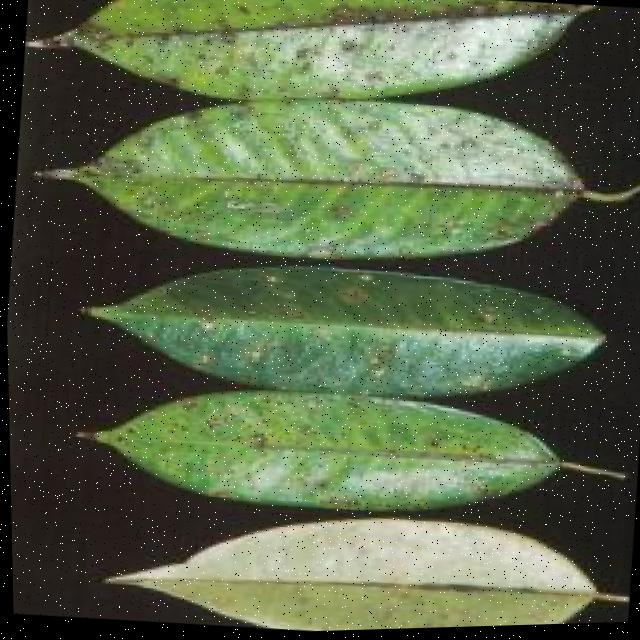Anthracnose: (39, 73, 577, 309), (60, 228, 615, 440), (72, 0, 561, 119)
